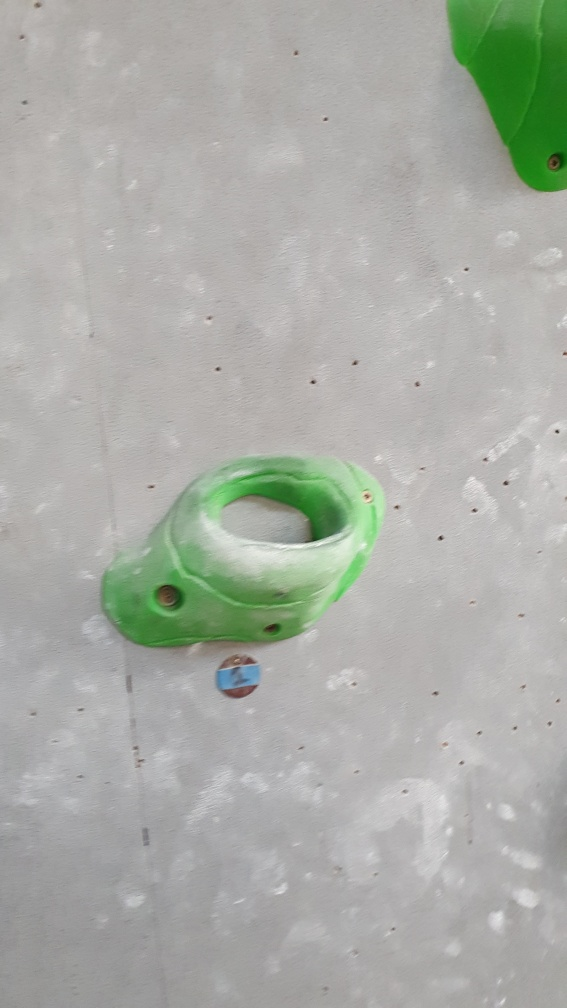Hand Start: (212, 653, 263, 706)
Pocket: (95, 452, 391, 654)
